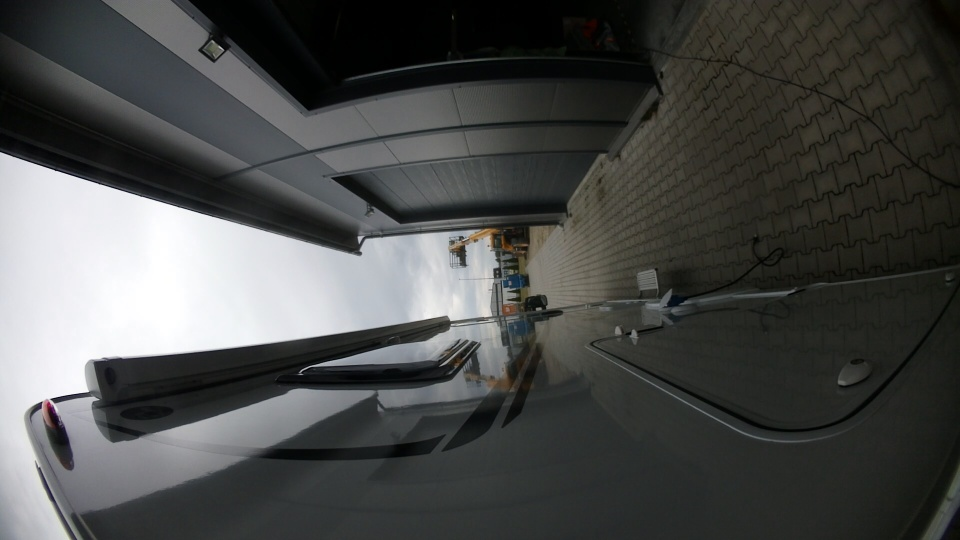step_back: (629, 264, 667, 302)
